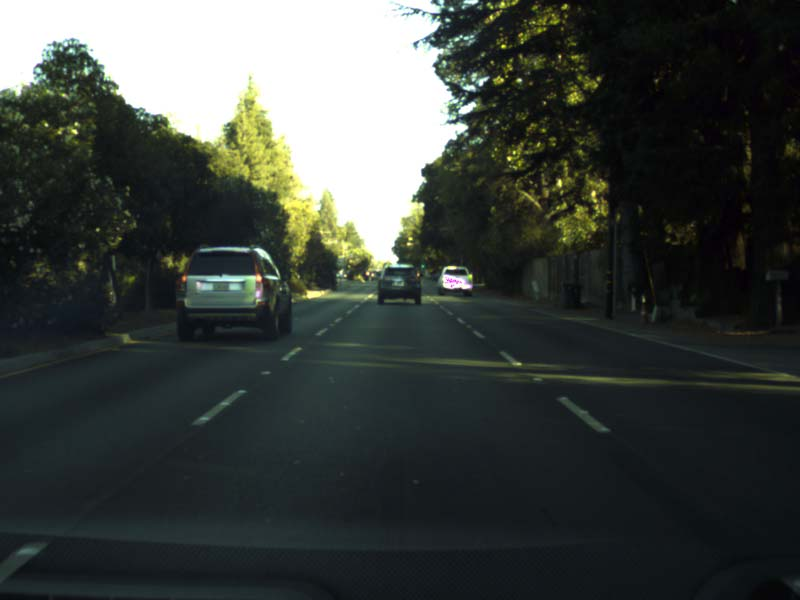Green: (421, 254, 426, 267)
